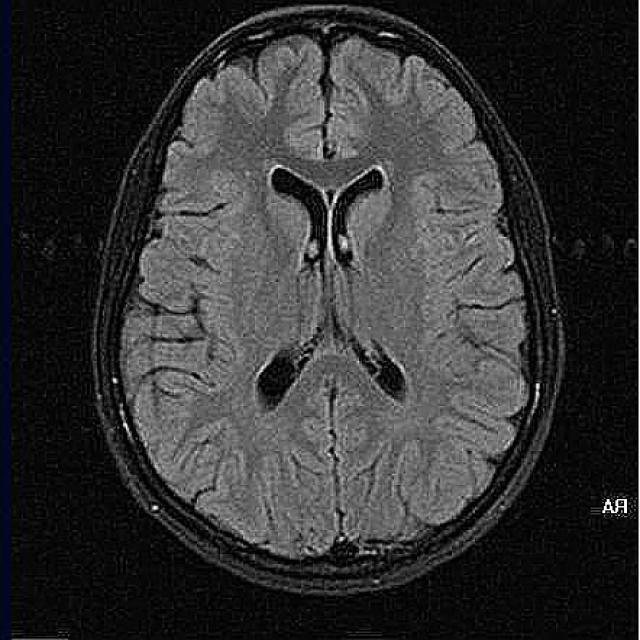notumor: (91, 7, 566, 603)
